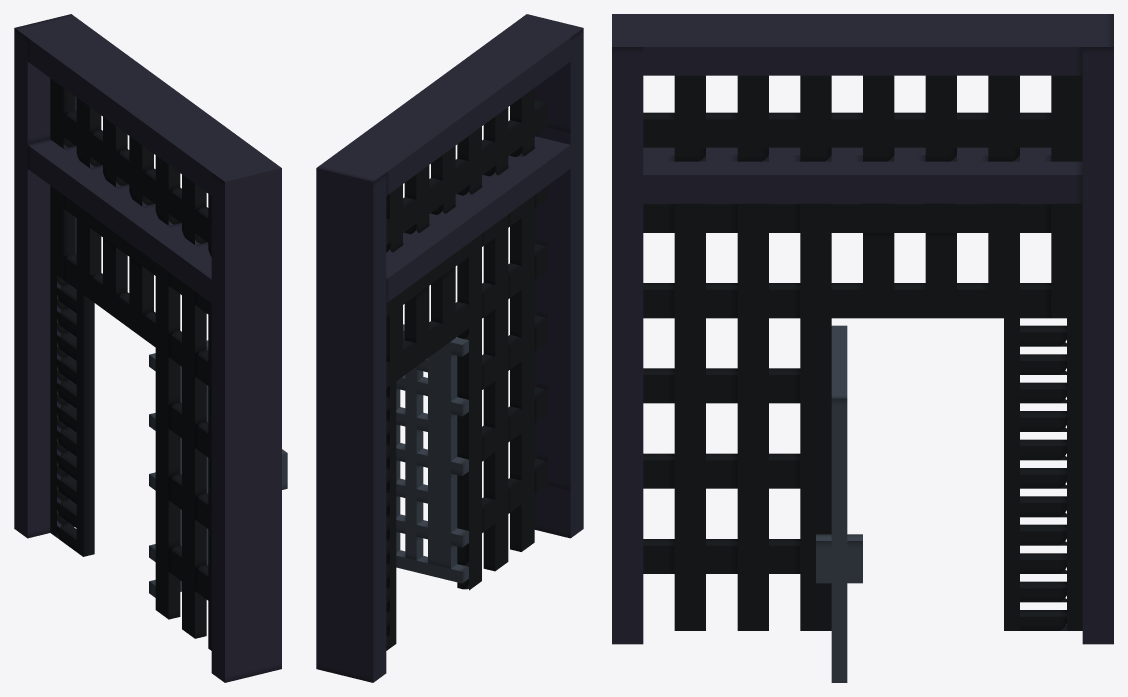
The model's file is BRAMA_OTWARTA.dae.
3 renders of one model, left to right at view 1: azimuth 30°, elevation 25°; view 2: azimuth 150°, elevation 25°; view 3: azimuth 270°, elevation 25°, orthographic. The views are drawn at different scales.
Parts seen in each view (by area): view 1: Content; view 2: Content; view 3: Content.
Part boxes in pixels (x1,y1,x2,y2): Content: [14, 14, 287, 682]; Content: [316, 14, 583, 682]; Content: [612, 14, 1113, 682].
Bounding box in the file's own units: 13 × 42 × 32.
1 material, 1 textured.
